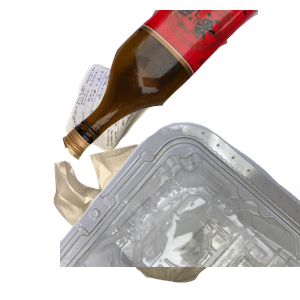glass: (60, 10, 300, 163)
paper: (63, 61, 242, 206)
plastic: (60, 120, 300, 300)
trash: (51, 142, 278, 300)
